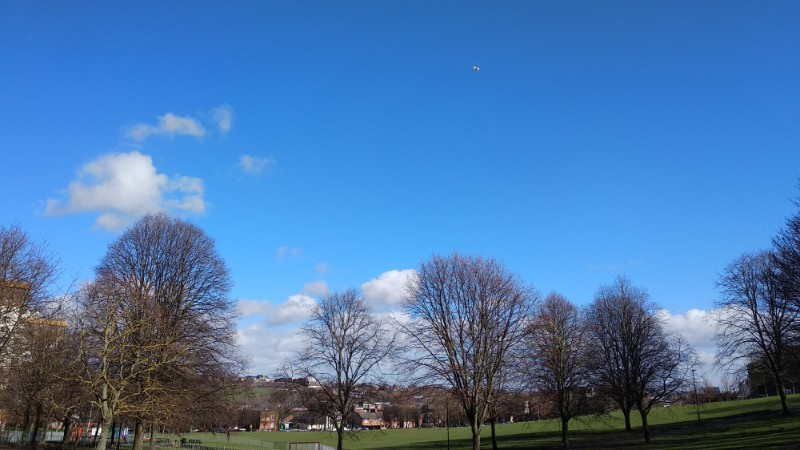drone: (471, 63, 480, 72)
